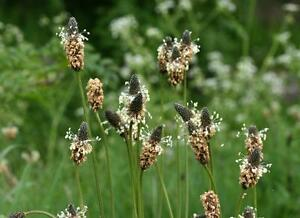buckhorn plantain: (41, 12, 281, 217)
